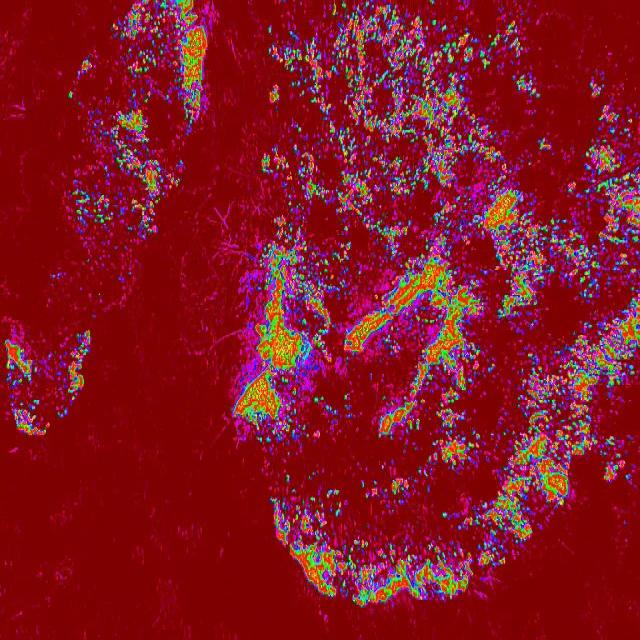fire: (236, 75, 640, 441), (270, 442, 568, 542), (264, 0, 546, 75), (59, 106, 168, 252), (289, 543, 509, 613), (111, 0, 208, 128), (0, 334, 49, 436), (57, 327, 92, 414), (602, 459, 635, 486), (568, 442, 592, 462)
